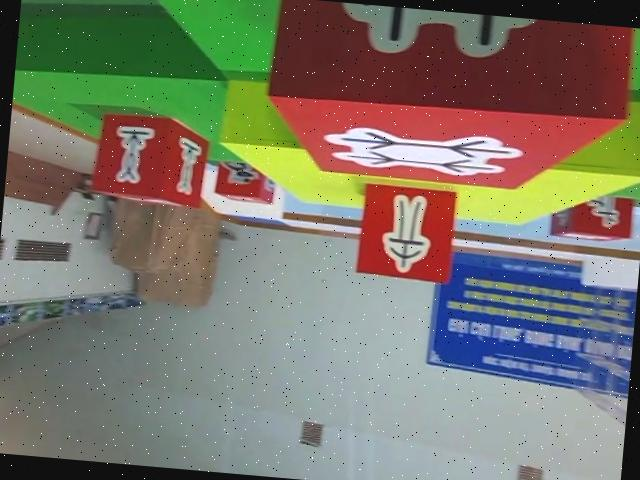R1: (212, 156, 278, 207)
R2 Fake: (353, 181, 458, 284)
R2 Real: (257, 0, 634, 198), (85, 107, 212, 211)
